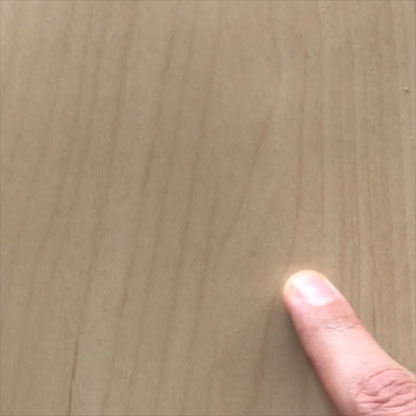fingertip: (277, 260, 360, 326)
